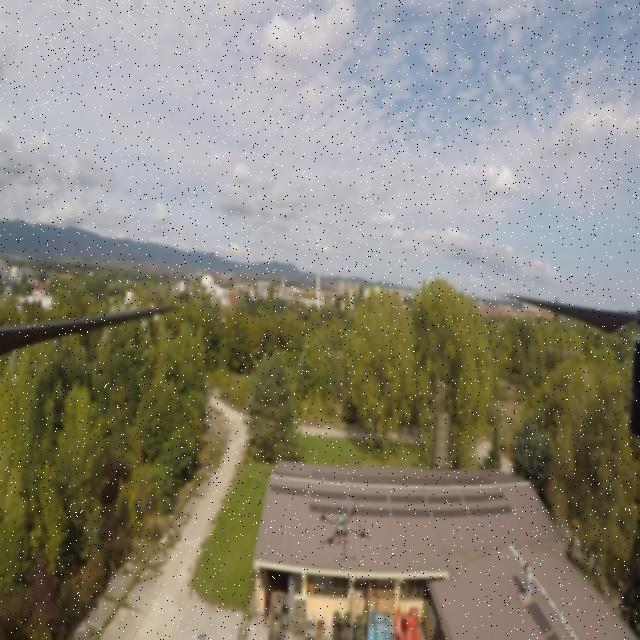UAV: (318, 500, 372, 566)
